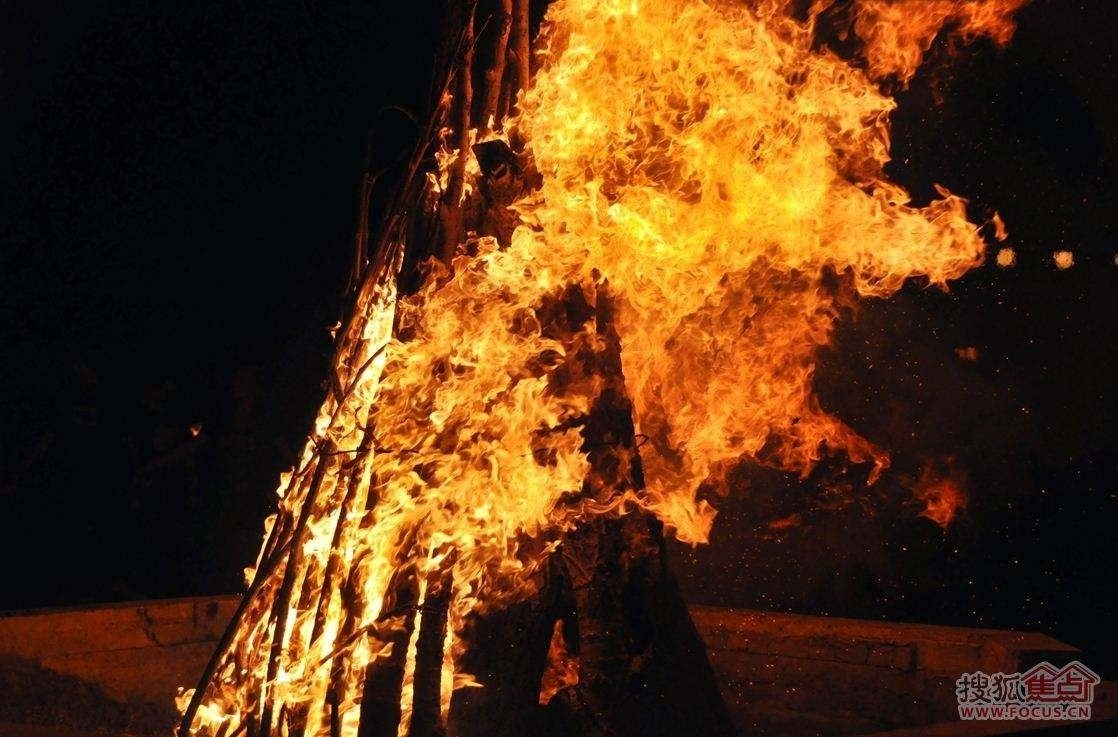fire: (273, 28, 1011, 647)
